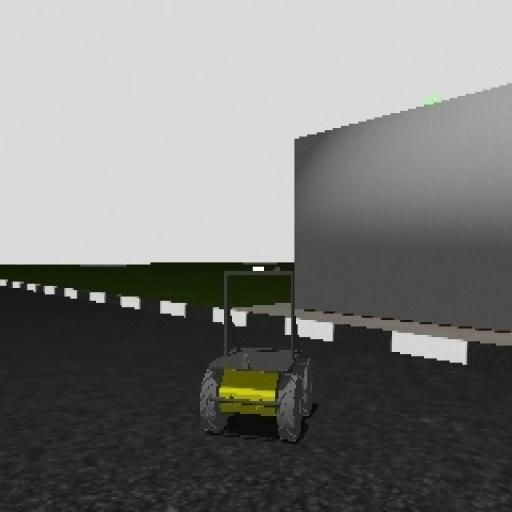huskya200: (184, 256, 336, 457)
